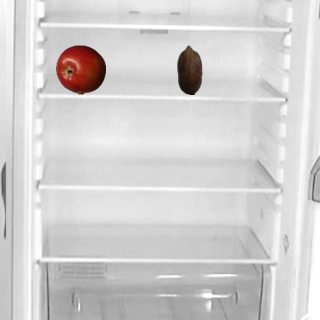Apple Braeburn: (55, 44, 105, 94)
Nut Pecan: (164, 44, 214, 94)
